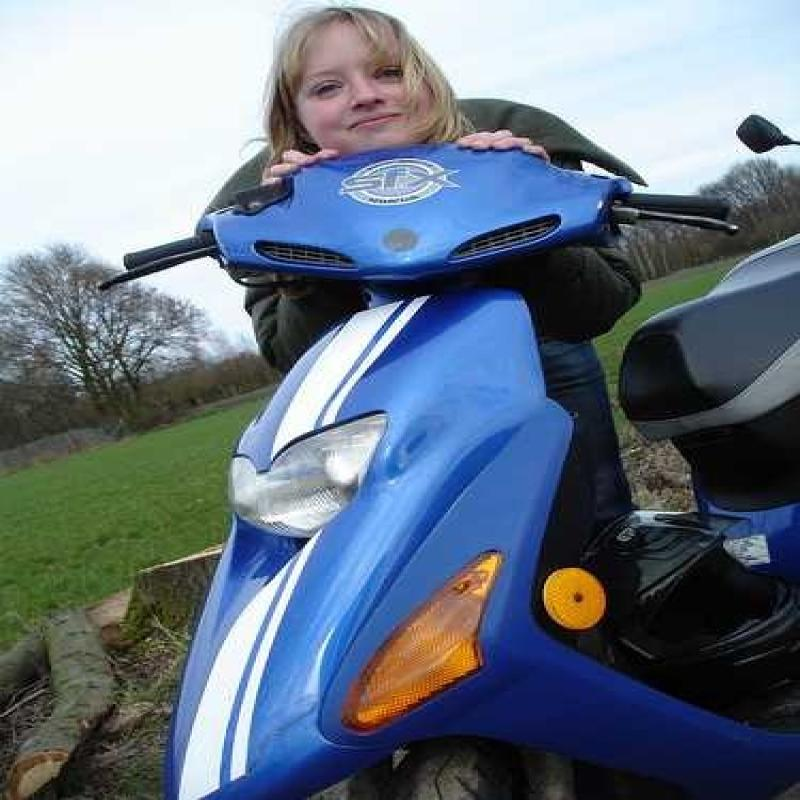bike: (83, 105, 800, 798)
